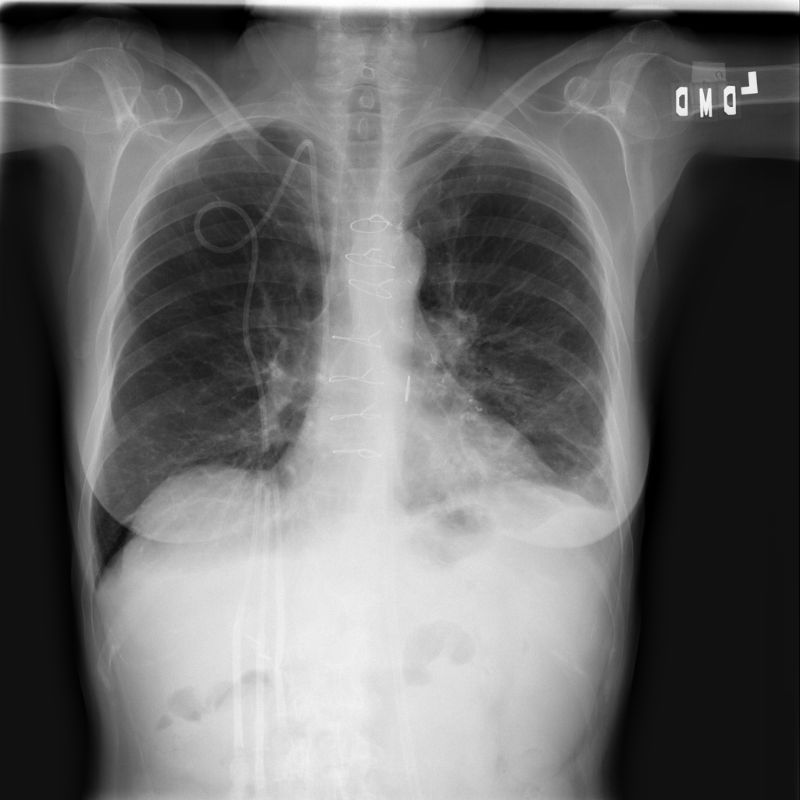PLEURAL EFFUSION: (542, 466, 628, 619)
